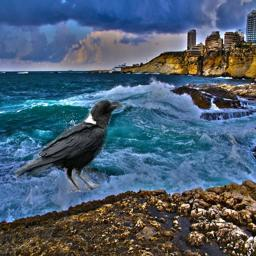Crow: (13, 96, 125, 193)
